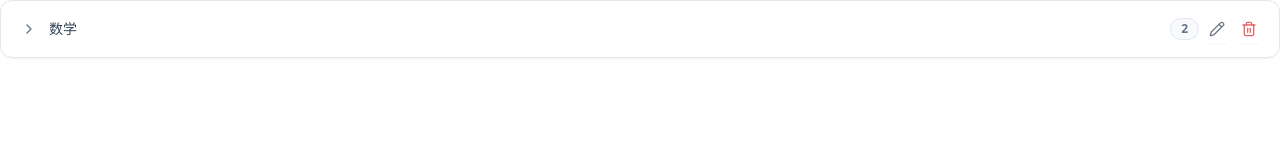
SubjectTree › builds a hierarchy from parent_id and renders child levels after expansion
The image size is (1280, 160).
Check: the button "数学" is shown, box 45,17 -> 1166,41
Click the button named "展开 数学" at (29, 29), box 17,17 -> 41,41
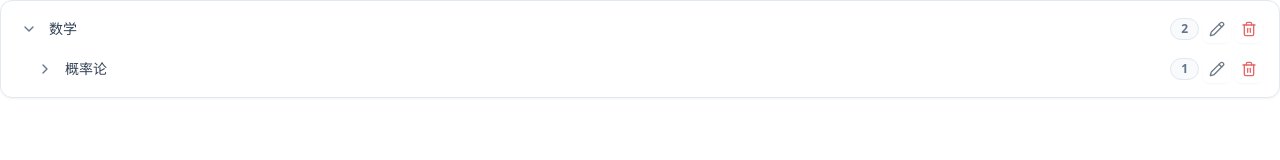
Check: the button "概率论" is shown, box 61,57 -> 1166,81
Click the button named "展开 概率论" at (45, 69), box 33,57 -> 57,81
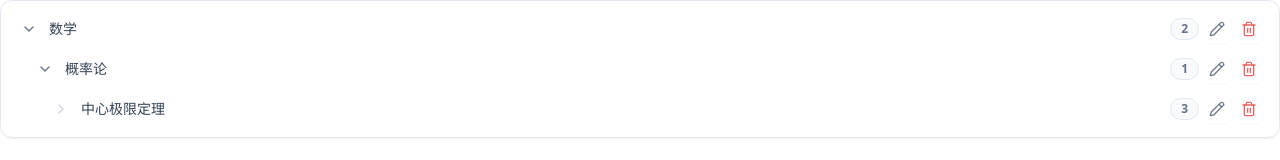
Check: the button "中心极限定理" is shown, box 77,97 -> 1166,121
